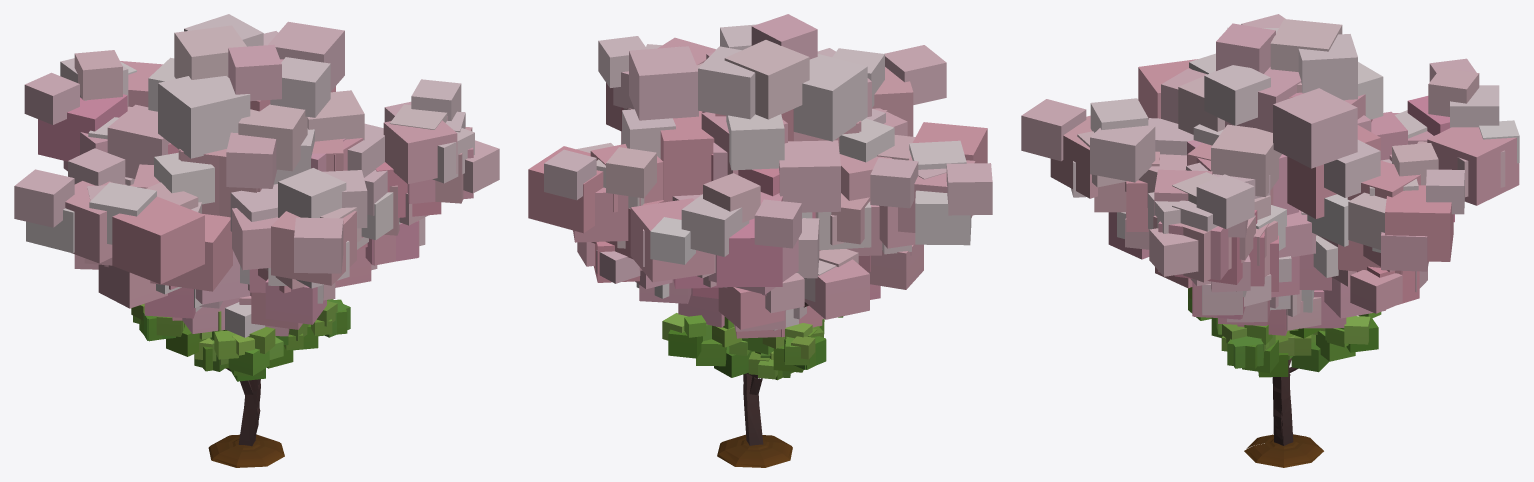
File: cherryblossom.glb
The picture shows the model from 3 angles, left to right: view 1: azimuth 30°, elevation 25°; view 2: azimuth 150°, elevation 25°; view 3: azimuth 270°, elevation 25°; orthographic projection.
Visible parts, largest first — view 1: stage4_blossom, stage4_l1_blossom, stage3_blossom, stage2_foliage, stage2_soil, stage2_l1_foliage, stage3_l1_blossom, stage4_l1_bark; view 2: stage4_blossom, stage4_l1_blossom, stage3_blossom, stage2_foliage, stage3_l1_blossom, stage2_soil, stage2_l1_foliage, stage4_bark; view 3: stage4_blossom, stage4_l1_blossom, stage3_blossom, stage2_foliage, stage3_l1_blossom, stage2_soil, stage2_l1_foliage, stage4_bark.
Part boxes in pixels (x1,y1,x2,y2): stage4_blossom: [14, 21, 474, 295]; stage4_l1_blossom: [89, 14, 499, 304]; stage3_blossom: [98, 221, 418, 337]; stage2_foliage: [133, 299, 350, 381]; stage2_soil: [208, 434, 284, 467]; stage2_l1_foliage: [131, 299, 347, 371]; stage3_l1_blossom: [74, 217, 425, 320]; stage4_l1_bark: [238, 379, 260, 446]; stage4_blossom: [528, 14, 992, 295]; stage4_l1_blossom: [623, 40, 987, 298]; stage3_blossom: [577, 241, 923, 338]; stage2_foliage: [662, 313, 843, 380]; stage3_l1_blossom: [781, 249, 869, 337]; stage2_soil: [717, 434, 792, 467]; stage2_l1_foliage: [758, 328, 826, 379]; stage4_bark: [743, 373, 761, 445]; stage4_blossom: [1021, 14, 1499, 297]; stage4_l1_blossom: [1138, 19, 1519, 286]; stage3_blossom: [1108, 212, 1427, 330]; stage2_foliage: [1188, 287, 1381, 376]; stage3_l1_blossom: [1193, 283, 1296, 335]; stage2_soil: [1244, 434, 1323, 467]; stage2_l1_foliage: [1221, 324, 1298, 377]; stage4_bark: [1272, 360, 1293, 445].
Bounding box in the file's own units: 3.24 × 3.02 × 3.3.
